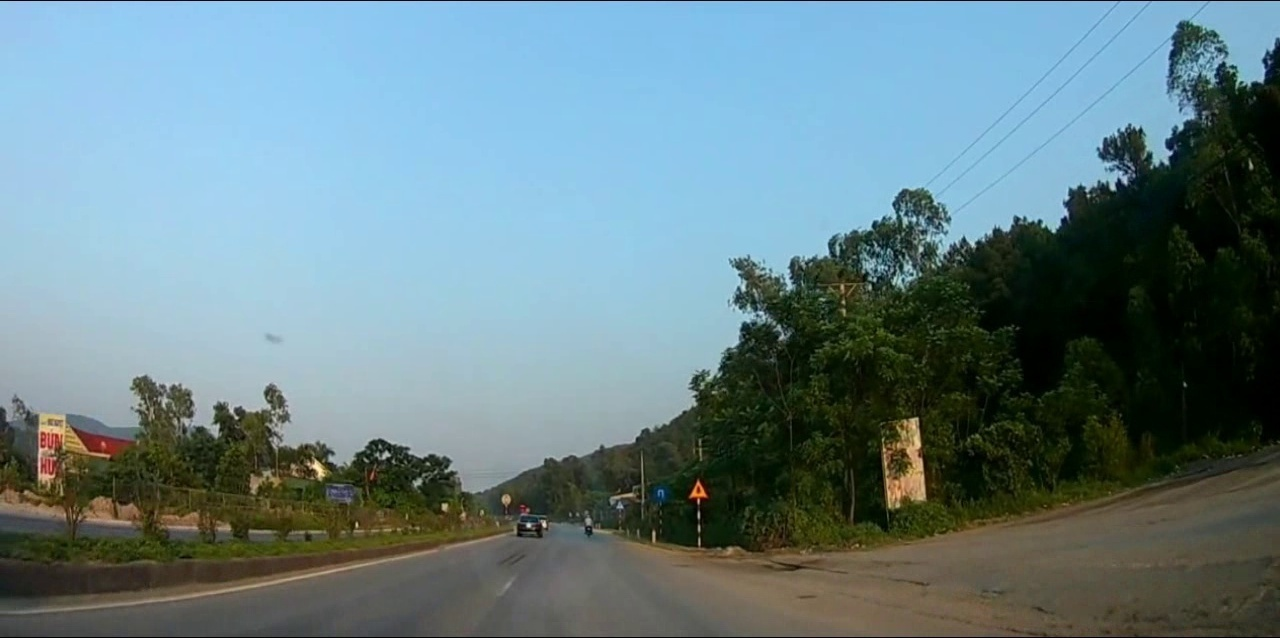Bien khac: (655, 485, 667, 499)
Giao nhau voi duong khong uu tien: (686, 478, 708, 498)
